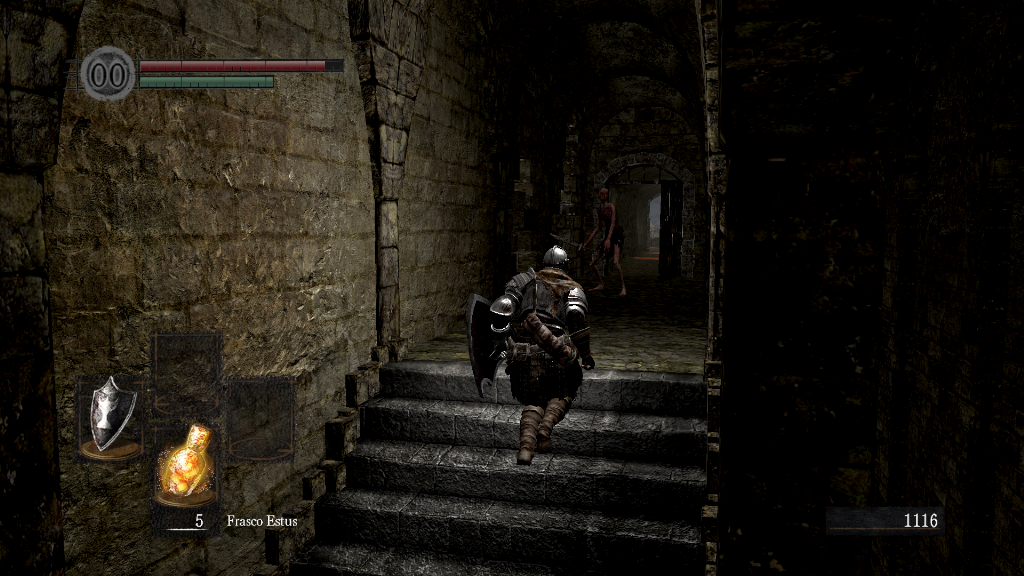health: (138, 58, 343, 71)
hollow: (583, 186, 627, 300)
humanity: (80, 45, 136, 102)
player: (465, 245, 600, 468)
souls: (825, 506, 945, 536)
stamina: (138, 74, 274, 88)
